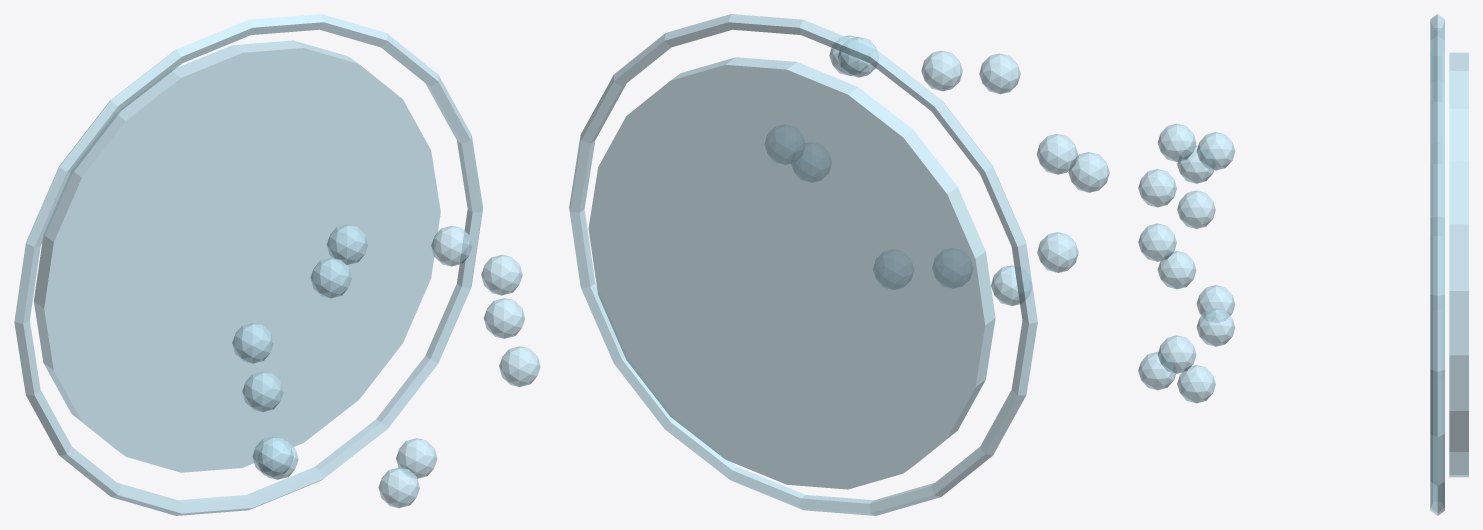
Rendered from 02_snow_gust_proxy.glb.
3 views of the same model, side by side, from view 1: azimuth 30°, elevation 25°; view 2: azimuth 150°, elevation 25°; view 3: azimuth 270°, elevation 25° (orthographic). The views are drawn at different scales.
Visible parts, largest first — view 1: base_disc, base_ring, snowflake_9, snowflake_0, snowflake_6, snowflake_1, snowflake_7, snowflake_2, snowflake_3, snowflake_10, snowflake_11, snowflake_8 (+2 smaller); view 2: base_disc, base_ring, snowflake_10, snowflake_8, snowflake_2, snowflake_9, snowflake_3, snowflake_1, snowflake_4, snowflake_5, snowflake_11, snowflake_0 (+2 smaller); view 3: base_disc, base_ring, snowflake_0, snowflake_1, snowflake_6, snowflake_3, snowflake_7, snowflake_2, snowflake_8, snowflake_5, snowflake_10, snowflake_4 (+2 smaller).
Boxes of the visible parts, <box> form: base_disc: <box>33,40,440,472</box>; base_ring: <box>14,14,482,515</box>; snowflake_9: <box>232,323,273,363</box>; snowflake_0: <box>483,298,525,338</box>; snowflake_6: <box>499,346,540,386</box>; snowflake_1: <box>431,225,472,266</box>; snowflake_7: <box>481,254,522,295</box>; snowflake_2: <box>310,257,351,298</box>; snowflake_3: <box>242,371,283,412</box>; snowflake_10: <box>252,436,293,476</box>; snowflake_11: <box>378,467,419,507</box>; snowflake_8: <box>326,224,368,264</box>; base_disc: <box>588,57,995,489</box>; base_ring: <box>569,14,1037,515</box>; snowflake_10: <box>1037,232,1078,272</box>; snowflake_8: <box>921,50,962,91</box>; snowflake_2: <box>979,53,1020,94</box>; snowflake_9: <box>1036,134,1077,174</box>; snowflake_3: <box>1068,152,1109,192</box>; snowflake_1: <box>837,36,878,77</box>; snowflake_4: <box>991,265,1031,305</box>; snowflake_5: <box>873,250,913,289</box>; snowflake_11: <box>932,248,972,287</box>; snowflake_0: <box>765,125,805,164</box>; base_disc: <box>1449,52,1468,477</box>; base_ring: <box>1430,14,1444,515</box>; snowflake_0: <box>1196,308,1235,346</box>; snowflake_1: <box>1177,190,1215,228</box>; snowflake_6: <box>1157,335,1196,373</box>; snowflake_3: <box>1138,169,1176,207</box>; snowflake_7: <box>1138,223,1176,261</box>; snowflake_2: <box>1157,123,1196,161</box>; snowflake_8: <box>1196,132,1235,170</box>; snowflake_5: <box>1177,365,1215,403</box>; snowflake_10: <box>1157,251,1196,289</box>; snowflake_4: <box>1196,285,1235,322</box>.
Size of the model in its own units: 1.3 by 1.3 by 0.85.
